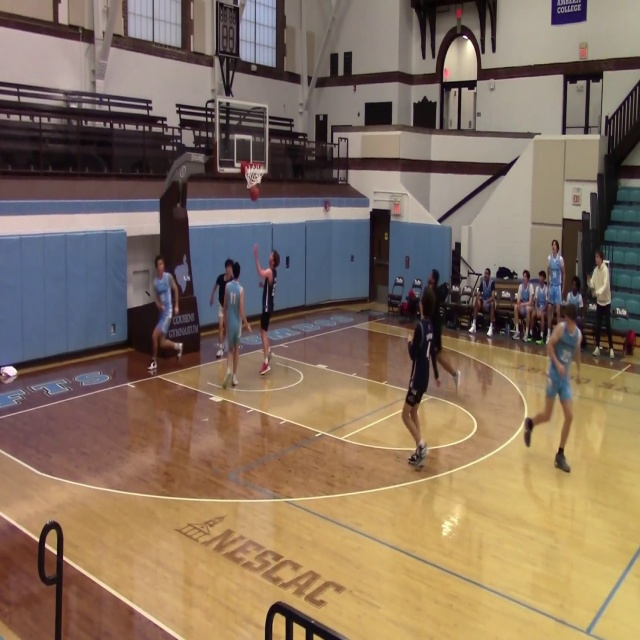Basketball: (0, 366, 17, 378), (249, 186, 259, 201)
